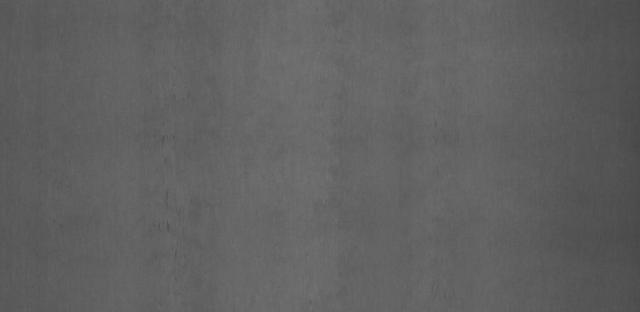silk_spot: (132, 86, 215, 260)
